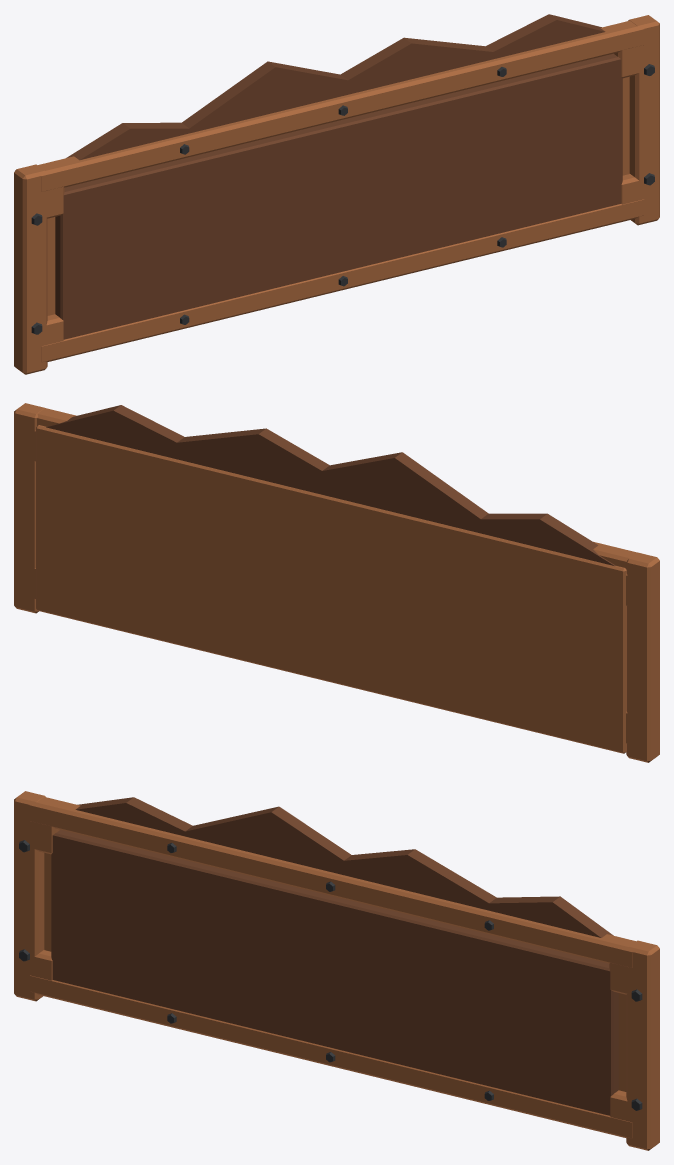
Rendered from Lodge_Plaque.fbx.
The picture shows the model from 3 angles, top to bottom: view 1: azimuth 30°, elevation 25°; view 2: azimuth 150°, elevation 25°; view 3: azimuth 330°, elevation 25°; orthographic projection.
Parts seen in each view (by area): view 1: Face, Frame, Crest, Bolts; view 2: Frame, Crest; view 3: Face, Frame, Crest, Bolts.
Boxes of the visible parts, bbox=[...] form: Face: bbox=[55, 53, 622, 339]; Frame: bbox=[14, 15, 659, 374]; Crest: bbox=[66, 14, 605, 160]; Bolts: bbox=[31, 64, 654, 334]; Frame: bbox=[14, 403, 659, 762]; Crest: bbox=[46, 405, 615, 565]; Face: bbox=[51, 830, 618, 1115]; Frame: bbox=[14, 791, 659, 1150]; Crest: bbox=[75, 797, 613, 937]; Bolts: bbox=[19, 840, 642, 1110].
Bounding box in the file's own units: 14.05 × 5.15 × 0.56.
